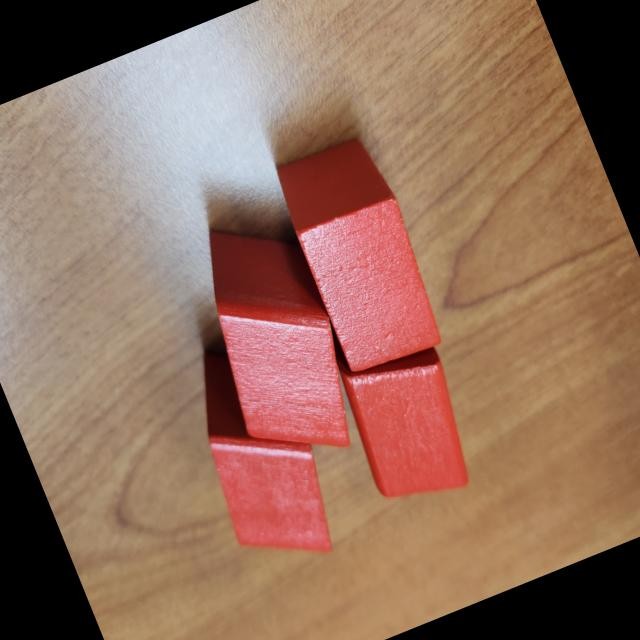red: (171, 199, 378, 482), (166, 324, 360, 586), (266, 129, 454, 381), (319, 306, 492, 518)
